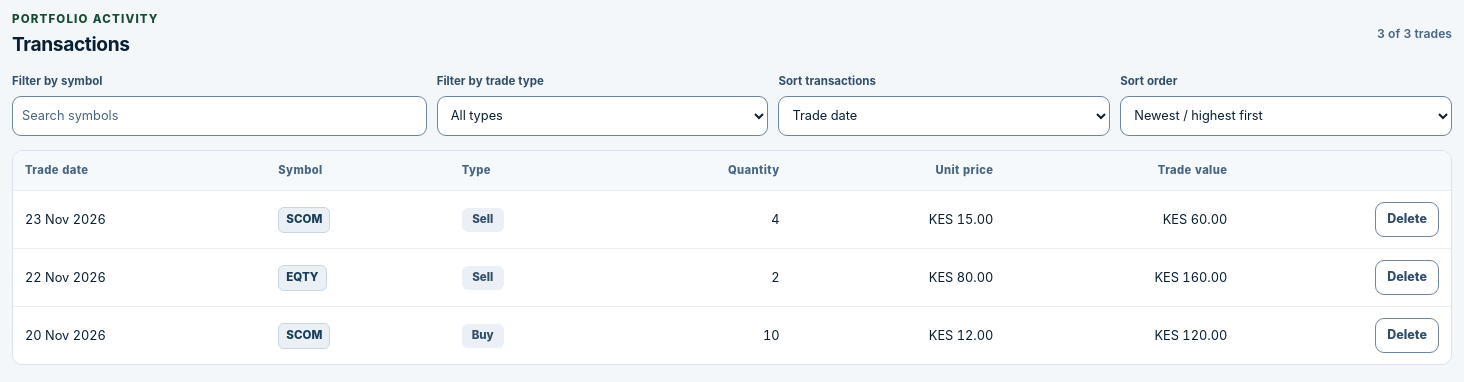
TransactionsTable › filters by symbol and type, then distinguishes no matches
This screenshot has width=1464, height=382.
Type "scom" into the search field labelled "Filter by symbol" at (219, 116), box [12,96,427,136]
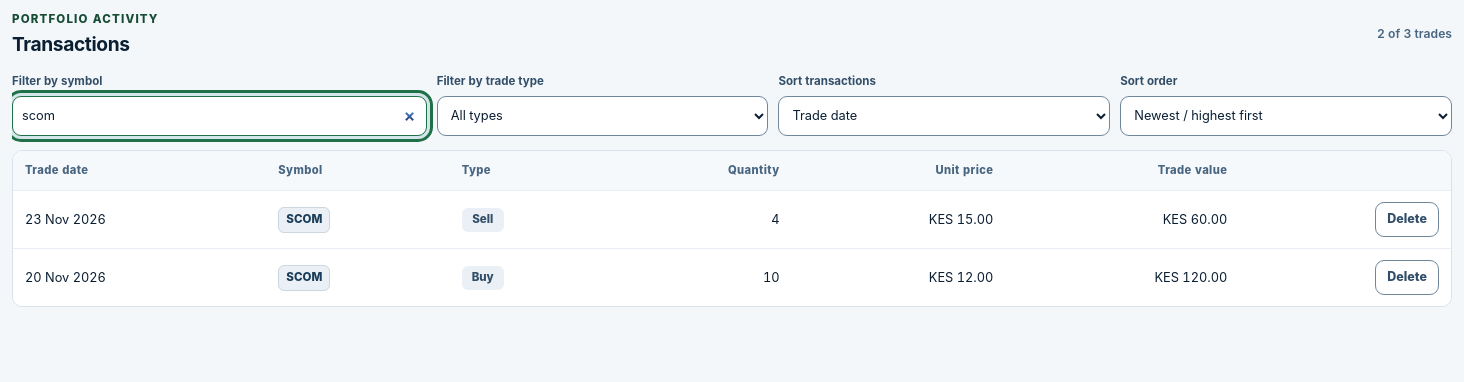
Select "Sells" in the dropdown labelled "Filter by trade type" at (603, 116), box [437,96,768,136]
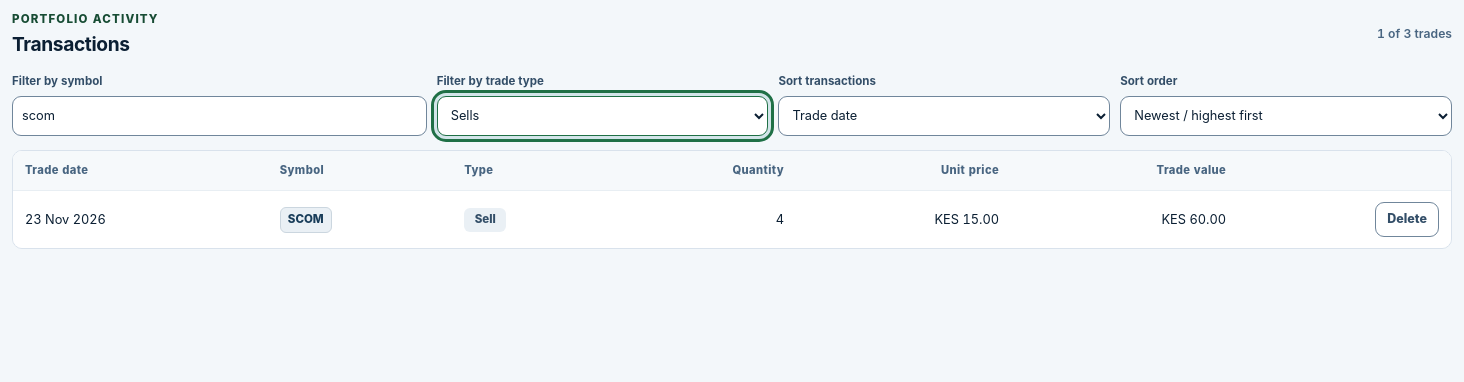
Expected: the text "SCOM" is shown, [280,207,332,232]
Expected: the text "Sell" is shown, [464,208,506,232]
Type "x" into the search field labelled "Filter by symbol" at (219, 116), box [12,96,427,136]
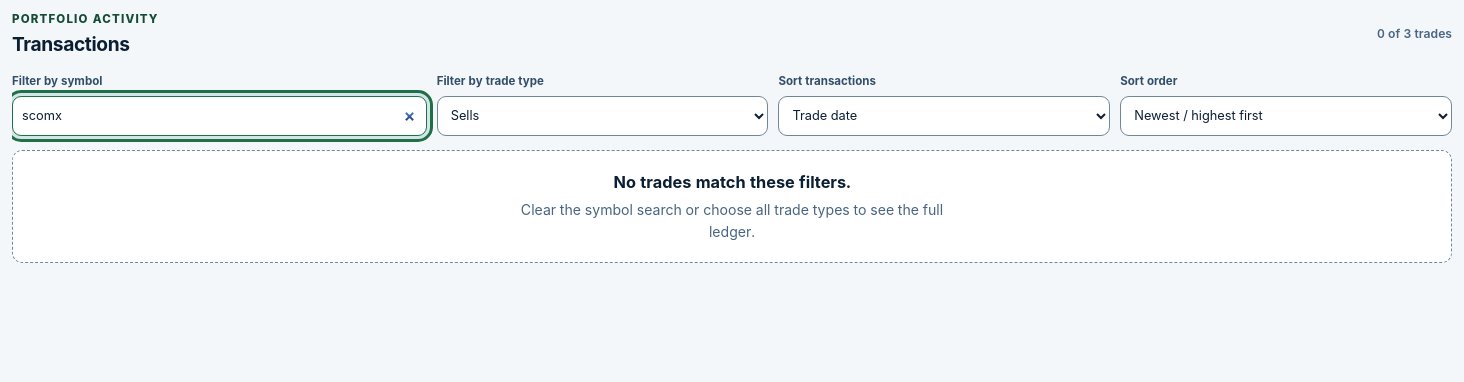
Result: the heading "No trades match these filters." is shown at [614,172,850,192]
